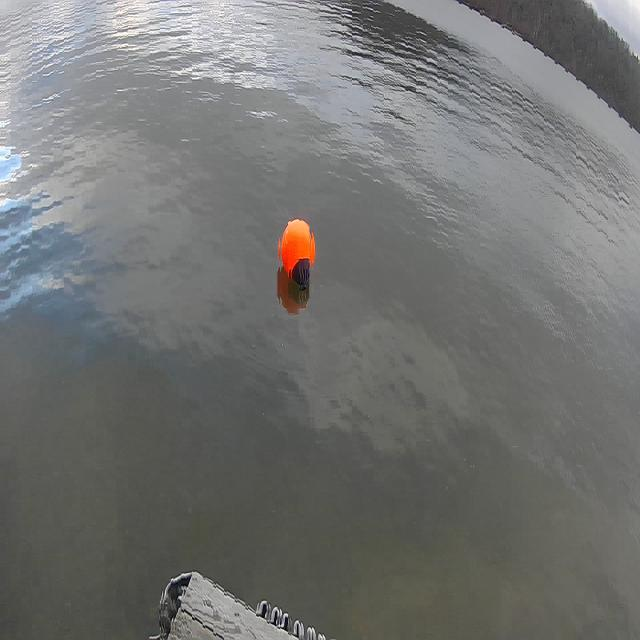Buoy: (274, 206, 320, 292)
